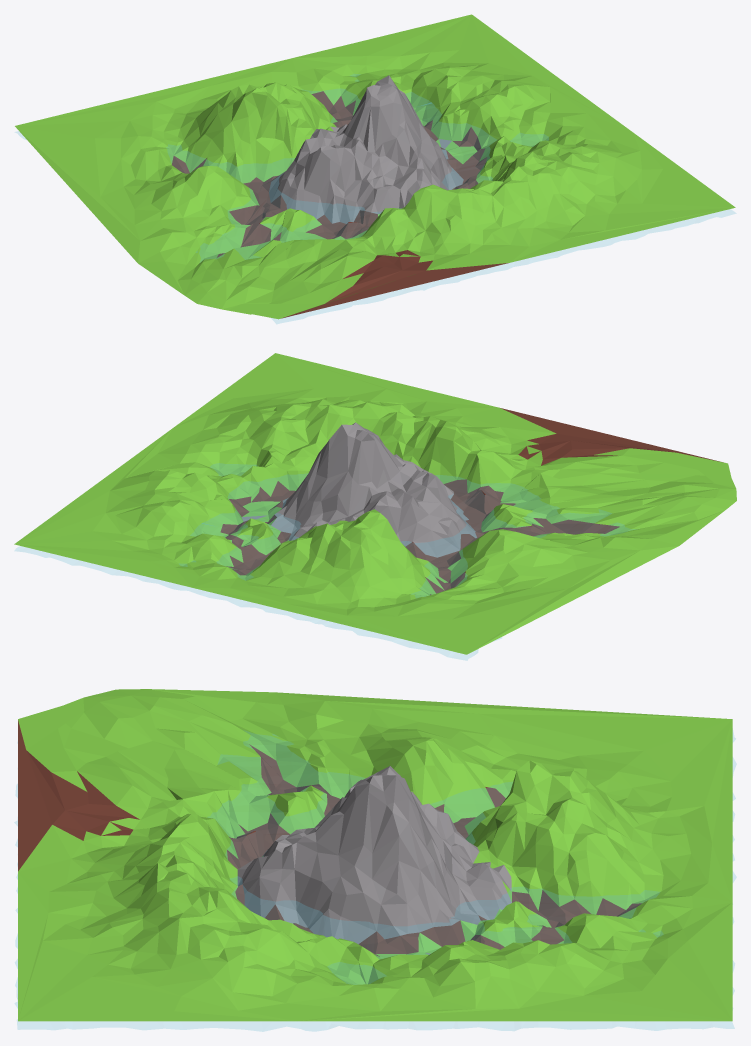
The model's file is scenery.glb.
The picture shows the model from 3 angles, top to bottom: view 1: azimuth 30°, elevation 25°; view 2: azimuth 150°, elevation 25°; view 3: azimuth 270°, elevation 25°; orthographic projection. The views are drawn at different scales.
Parts seen in each view (by area): view 1: Landscape, Lake; view 2: Landscape, Lake; view 3: Landscape, Lake.
Part boxes in pixels (x1=…): Landscape: x1=15, y1=14, x2=735, y2=319; Lake: x1=15, y1=74, x2=735, y2=323; Landscape: x1=14, y1=353, x2=736, y2=654; Lake: x1=15, y1=463, x2=635, y2=660; Landscape: x1=18, y1=689, x2=732, y2=1021; Lake: x1=14, y1=731, x2=736, y2=1031.
Bounding box in the file's own units: 2.77 × 0.5251 × 2.53.
